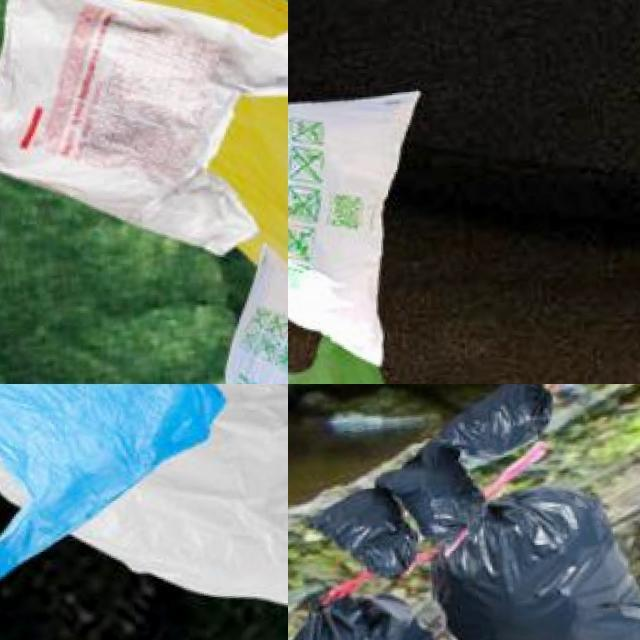waste: (0, 0, 288, 290), (100, 0, 288, 293), (0, 384, 237, 589), (288, 78, 433, 376), (428, 477, 640, 640), (314, 485, 416, 582), (219, 243, 288, 384), (435, 384, 557, 453)
